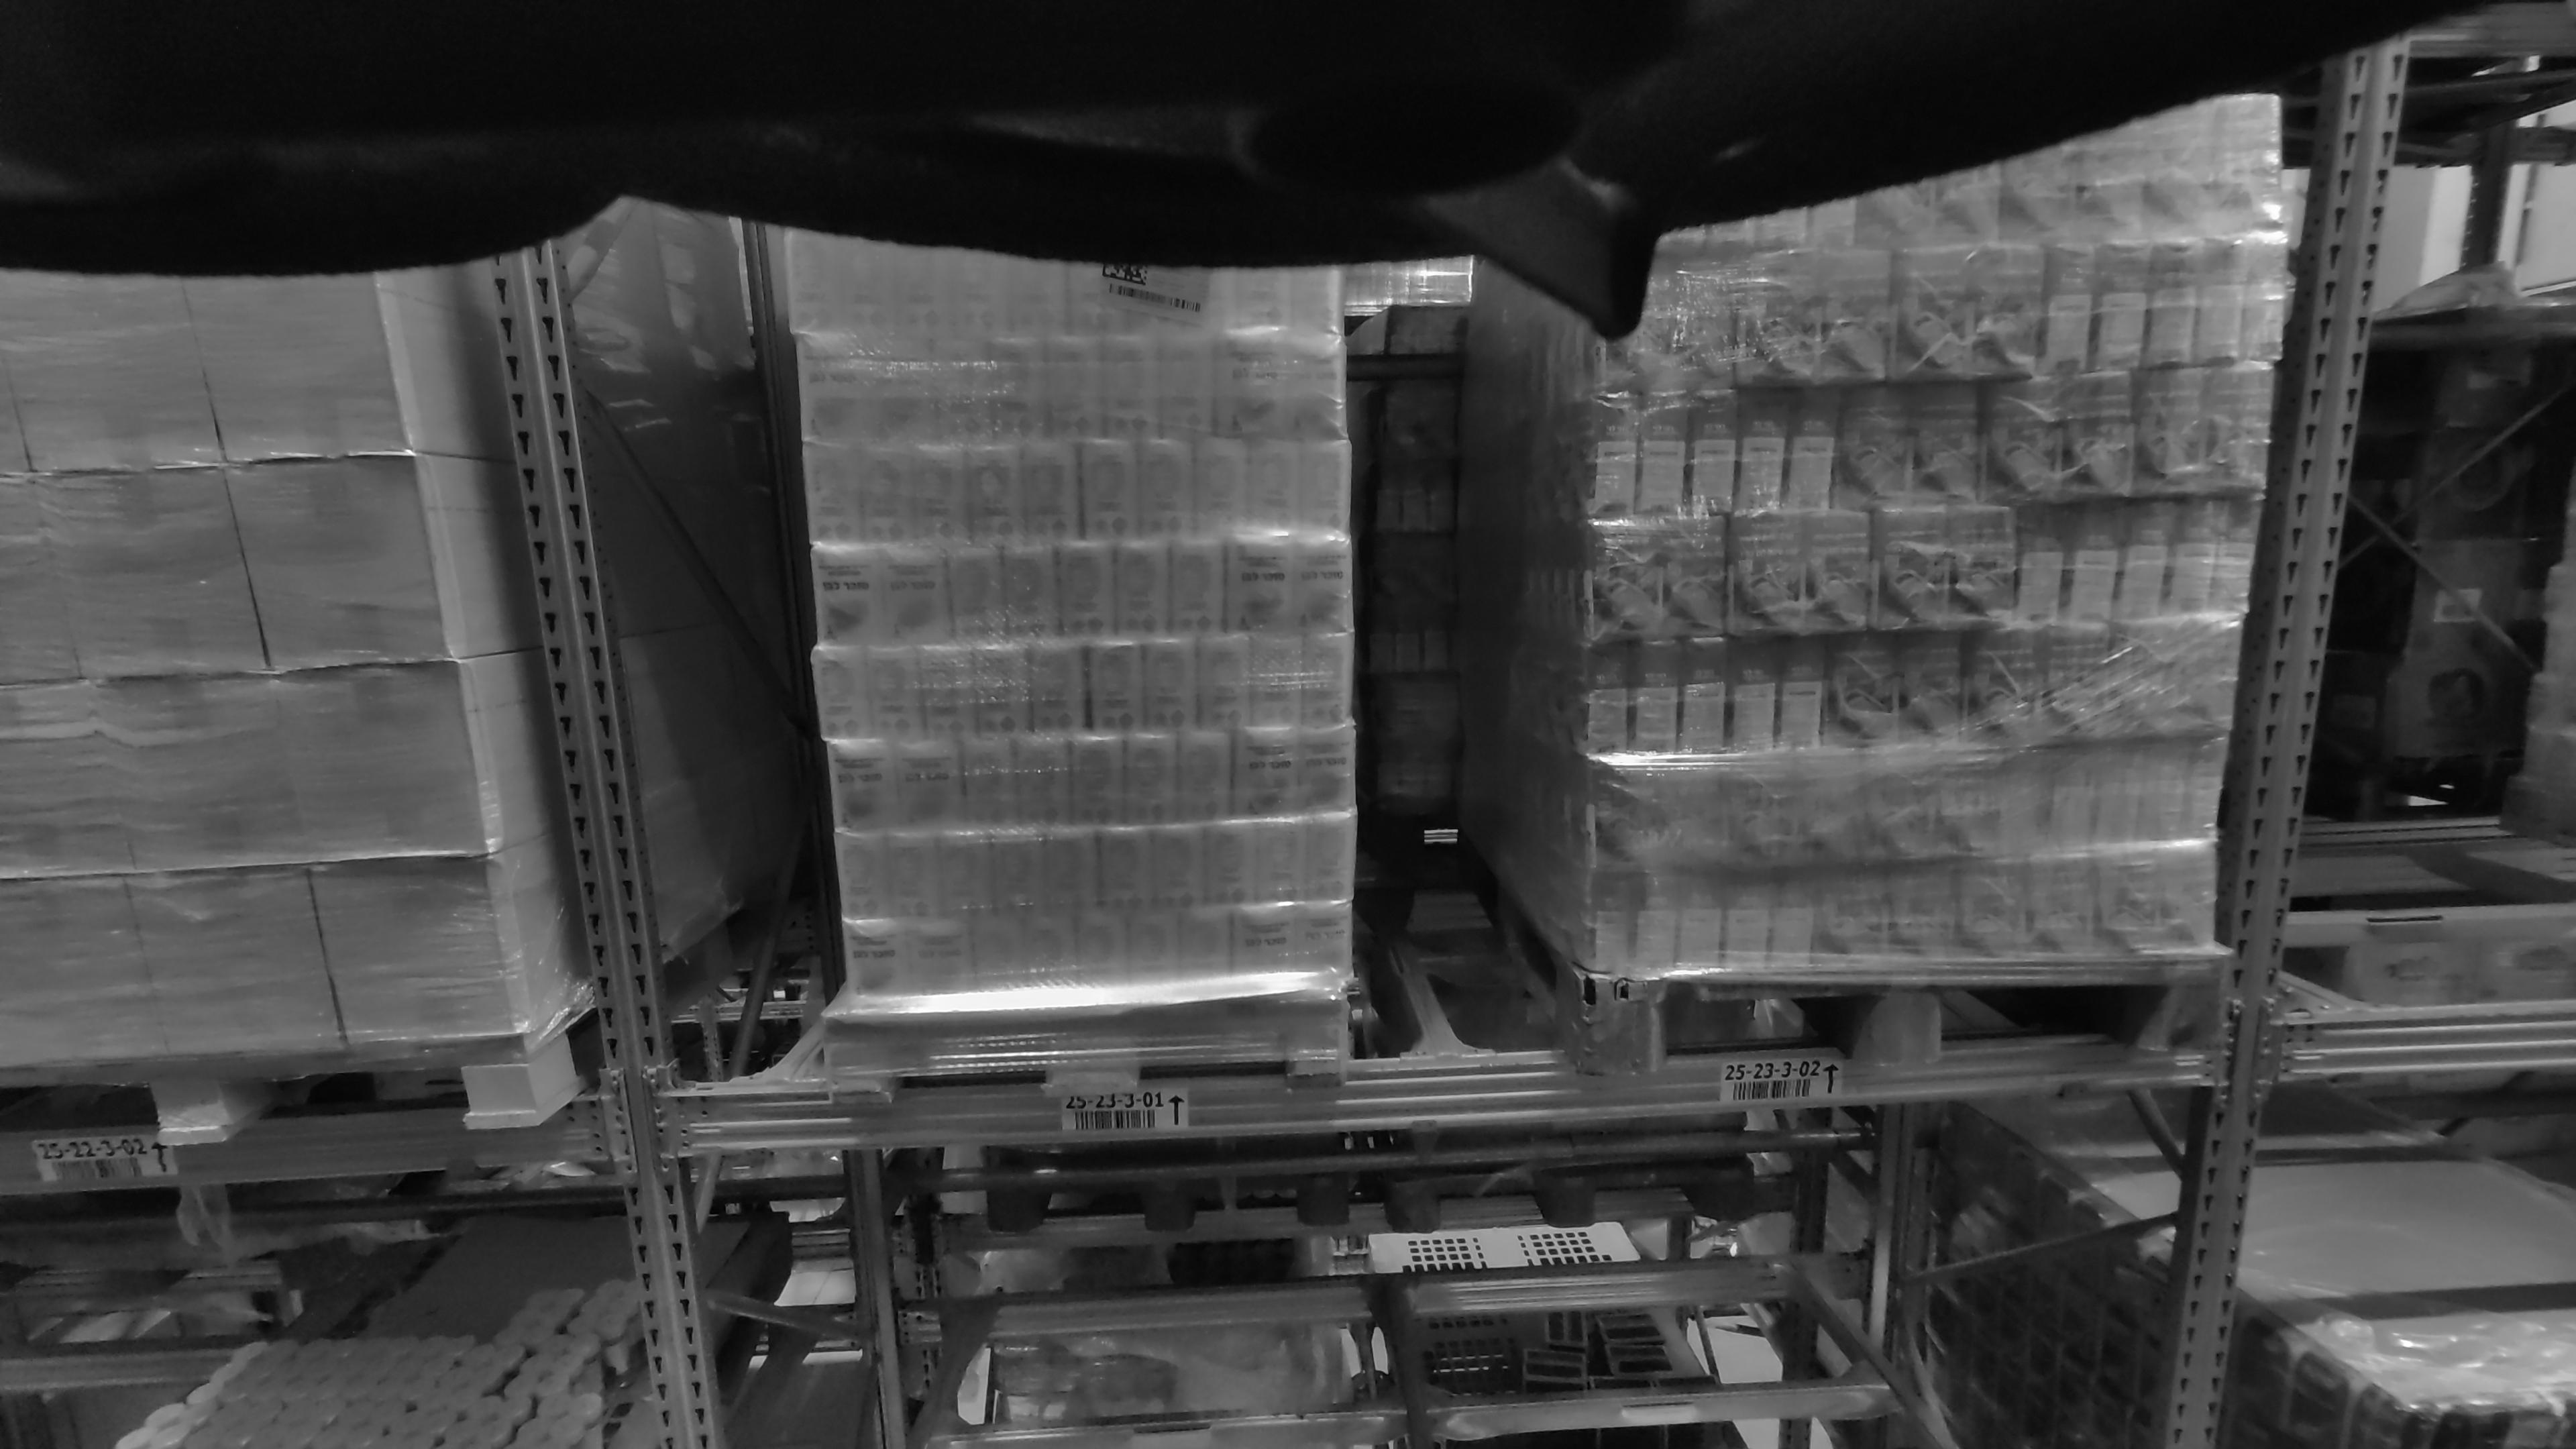empty-shelf: (2311, 99, 2576, 1000)
